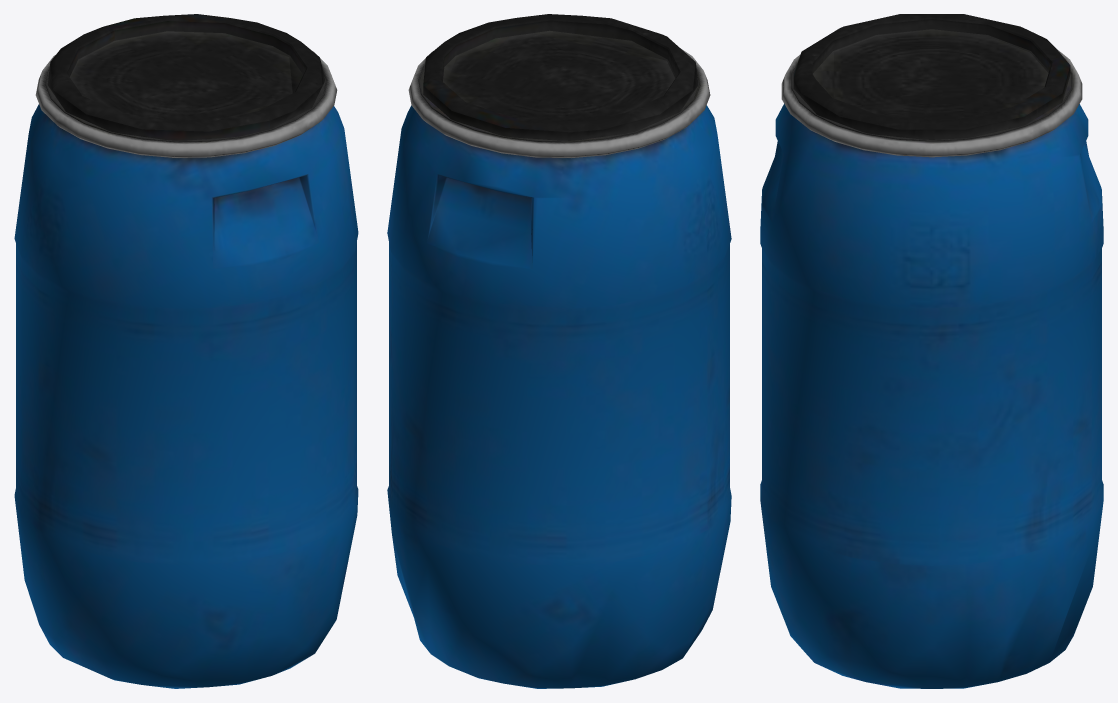
File: Barrel_02.glb
The picture shows the model from 3 angles, left to right: view 1: azimuth 30°, elevation 25°; view 2: azimuth 150°, elevation 25°; view 3: azimuth 270°, elevation 25°; orthographic projection.
Parts seen in each view (by area): view 1: Barrel_02; view 2: Barrel_02; view 3: Barrel_02.
Part boxes in pixels (<box>): Barrel_02: <box>14,14,358,688</box>; Barrel_02: <box>387,14,731,688</box>; Barrel_02: <box>760,14,1103,688</box>.
Size of the model in its own units: 0.4882 by 0.88 by 0.4846.
1 material, 1 textured.
